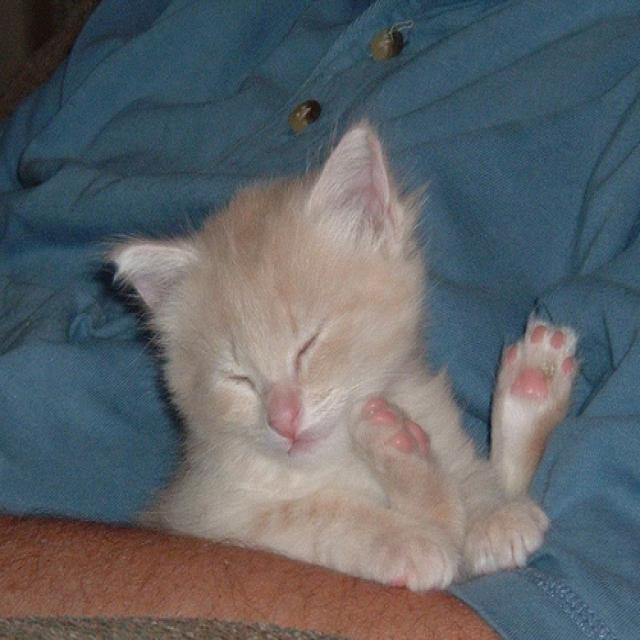left eye: (292, 326, 322, 370)
